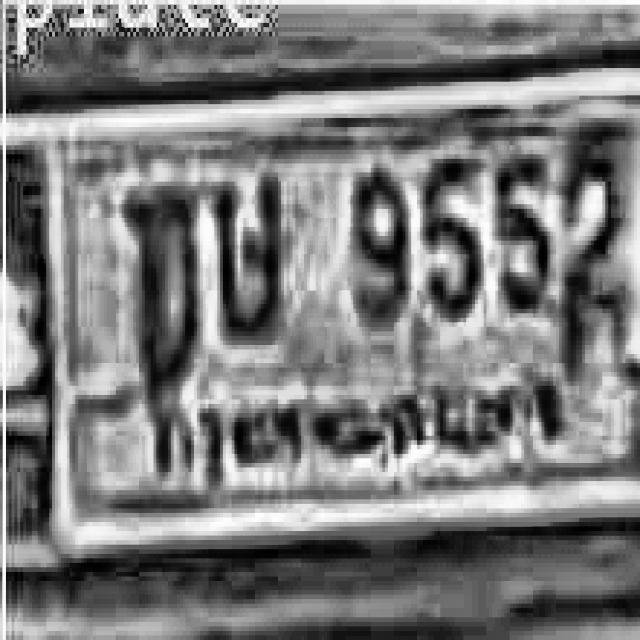license-plate: (49, 64, 640, 559)
